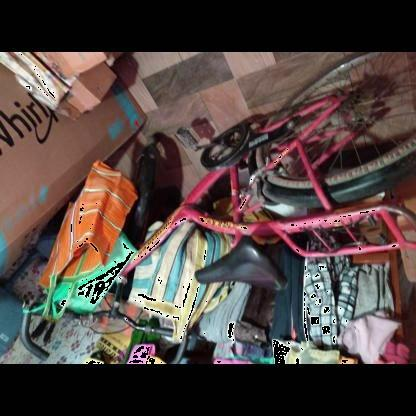Bicycle: (150, 47, 416, 314)
